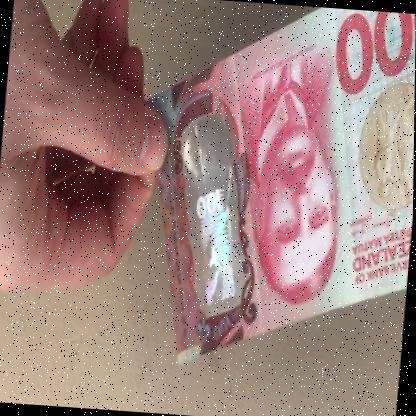100F: (172, 133, 253, 311)
